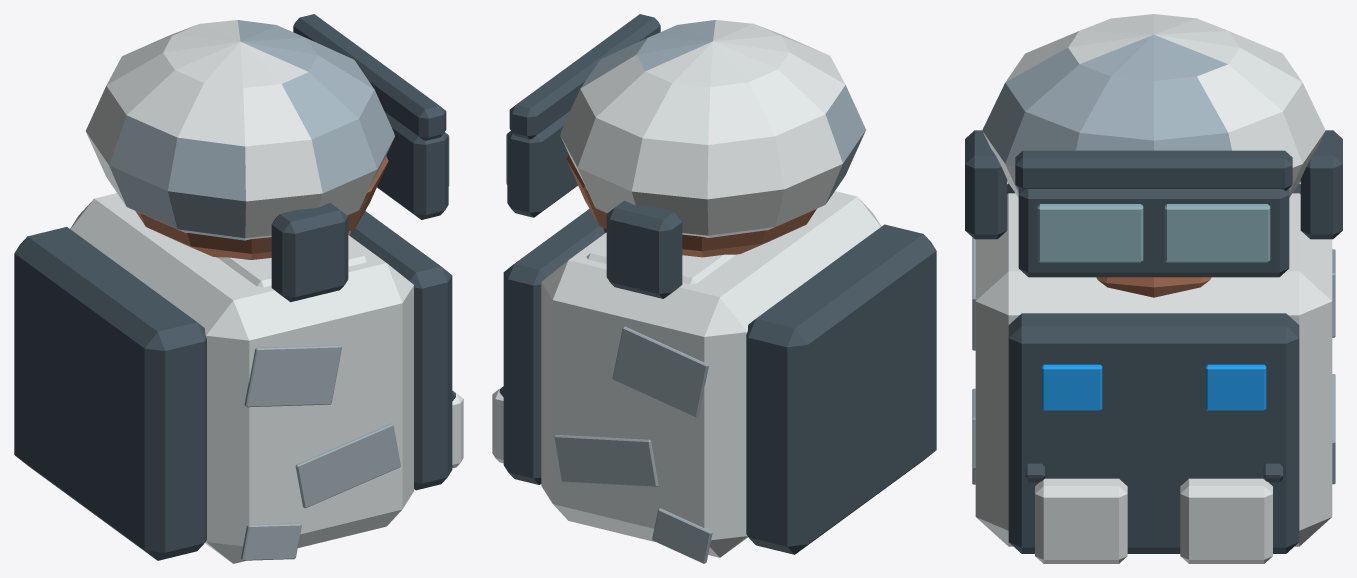
Rendered from blue-strike.polar-camo.glb.
3 views of the same model, side by side, from view 1: azimuth 30°, elevation 25°; view 2: azimuth 150°, elevation 25°; view 3: azimuth 270°, elevation 25° (orthographic). The views are drawn at different scales.
Parts seen in each view (by area): view 1: blue-strike_polar-camo__main__torso_finish_485863_0.03, blue-strike_polar-camo__main__torso_finish_e0e5e5_0.03, blue-strike_polar-camo__main__head_finish_e0e5e5_0.03|finish, blue-strike_polar-camo__main__head_finish_485863_0.03, blue-strike_polar-camo__main__torso_finish_a0afb7_0.03, blue-strike_polar-camo__main__head_finish_a96f55_0.03; view 2: blue-strike_polar-camo__main__torso_finish_485863_0.03, blue-strike_polar-camo__main__torso_finish_e0e5e5_0.03, blue-strike_polar-camo__main__head_finish_e0e5e5_0.03|finish, blue-strike_polar-camo__main__head_finish_485863_0.03, blue-strike_polar-camo__main__torso_finish_a0afb7_0.03, blue-strike_polar-camo__main__head_finish_a96f55_0.03; view 3: blue-strike_polar-camo__main__torso_finish_485863_0.03, blue-strike_polar-camo__main__torso_finish_e0e5e5_0.03, blue-strike_polar-camo__main__head_finish_e0e5e5_0.03|finish, blue-strike_polar-camo__main__head_finish_485863_0.03, blue-strike_polar-camo__main__head_finish_91b6c0_0.03, blue-strike_polar-camo__main__torso_finish_25a8ff_0.03, blue-strike_polar-camo__main__torso_finish_a0afb7_0.03, blue-strike_polar-camo__main__head_finish_a96f55_0.03.
Part boxes in pixels (box(x1,y1,x2,y2)): blue-strike_polar-camo__main__torso_finish_485863_0.03: box(14, 211, 455, 560); blue-strike_polar-camo__main__torso_finish_e0e5e5_0.03: box(70, 193, 463, 563); blue-strike_polar-camo__main__head_finish_e0e5e5_0.03|finish: box(85, 20, 394, 240); blue-strike_polar-camo__main__head_finish_485863_0.03: box(271, 14, 448, 302); blue-strike_polar-camo__main__torso_finish_a0afb7_0.03: box(241, 345, 400, 560); blue-strike_polar-camo__main__head_finish_a96f55_0.03: box(135, 156, 388, 259); blue-strike_polar-camo__main__torso_finish_485863_0.03: box(499, 209, 936, 554); blue-strike_polar-camo__main__torso_finish_e0e5e5_0.03: box(492, 191, 881, 557); blue-strike_polar-camo__main__head_finish_e0e5e5_0.03|finish: box(560, 20, 865, 237); blue-strike_polar-camo__main__head_finish_485863_0.03: box(507, 14, 682, 298); blue-strike_polar-camo__main__torso_finish_a0afb7_0.03: box(554, 326, 712, 563); blue-strike_polar-camo__main__head_finish_a96f55_0.03: box(566, 154, 816, 257); blue-strike_polar-camo__main__torso_finish_485863_0.03: box(1007, 183, 1300, 553); blue-strike_polar-camo__main__torso_finish_e0e5e5_0.03: box(975, 193, 1332, 563); blue-strike_polar-camo__main__head_finish_e0e5e5_0.03|finish: box(982, 14, 1325, 197); blue-strike_polar-camo__main__head_finish_485863_0.03: box(965, 130, 1342, 277); blue-strike_polar-camo__main__head_finish_91b6c0_0.03: box(1037, 204, 1270, 262); blue-strike_polar-camo__main__torso_finish_25a8ff_0.03: box(1041, 364, 1266, 410); blue-strike_polar-camo__main__torso_finish_a0afb7_0.03: box(972, 237, 1335, 484); blue-strike_polar-camo__main__head_finish_a96f55_0.03: box(1096, 277, 1211, 297).
Bounding box in the file's own units: 30.25 × 39.5 × 28.6.
